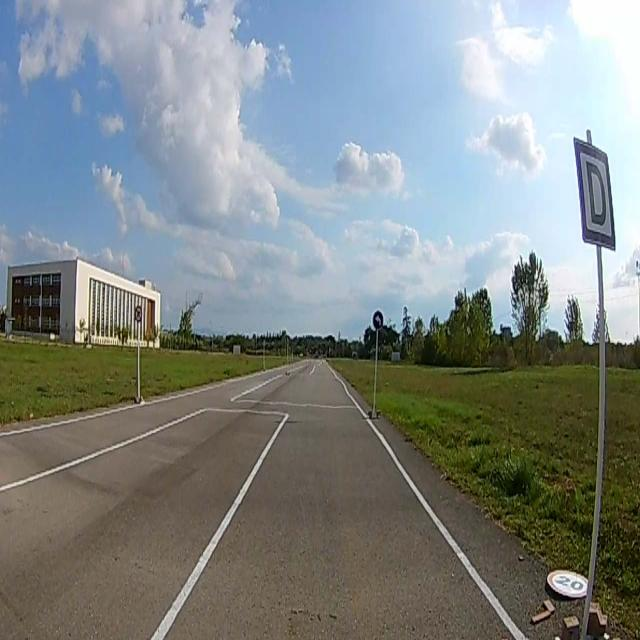durak: (574, 138, 616, 249)
sol: (373, 311, 383, 329)
